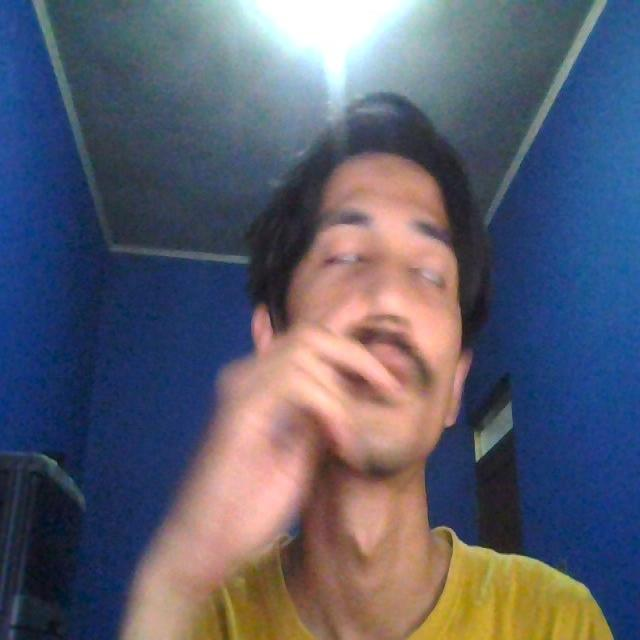movement: (151, 94, 524, 544)
